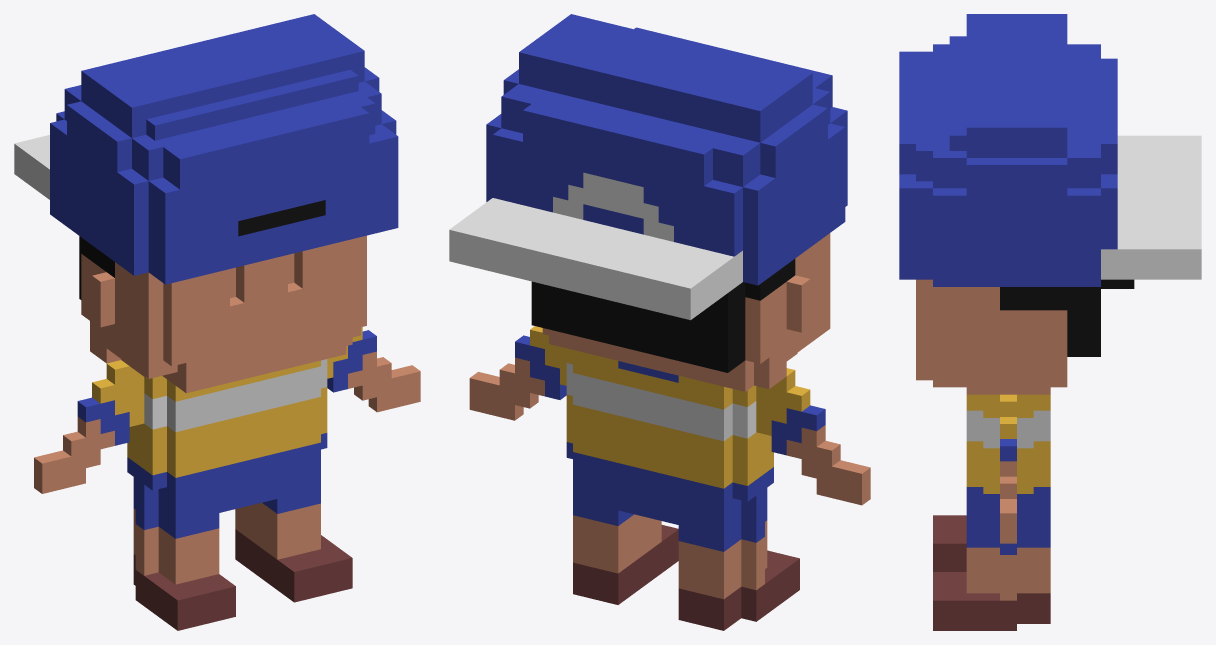
The model's file is youngster-0.obj.
3 renders of one model, left to right at view 1: azimuth 30°, elevation 25°; view 2: azimuth 150°, elevation 25°; view 3: azimuth 270°, elevation 25°, orthographic. The views are drawn at different scales.
Size of the model in its own units: 2.6 by 3.4 by 1.8.
Materials: 1 (1 with a texture image).
